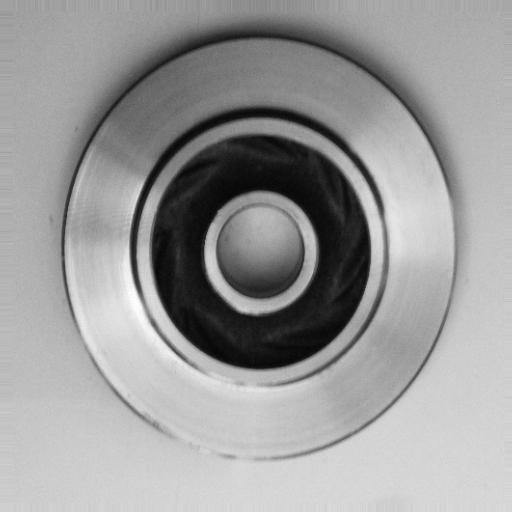scratch: (144, 416, 272, 473), (185, 358, 287, 401)
unpolished_casting: (62, 37, 461, 466)
